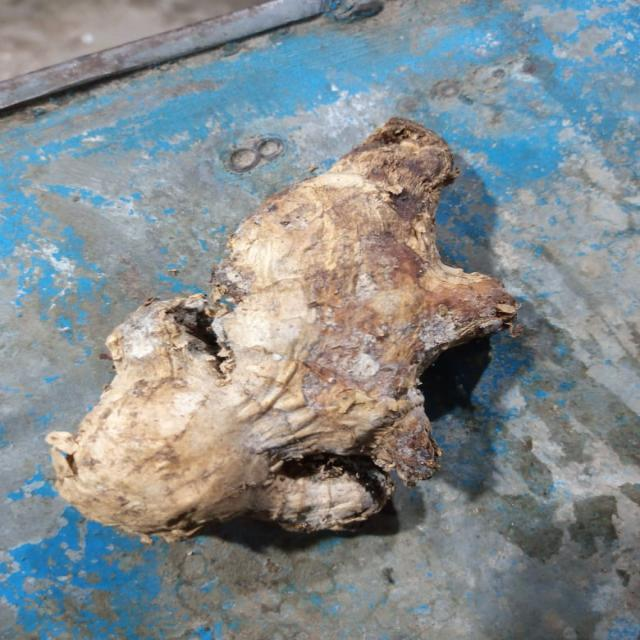ginger: (76, 162, 487, 536)
